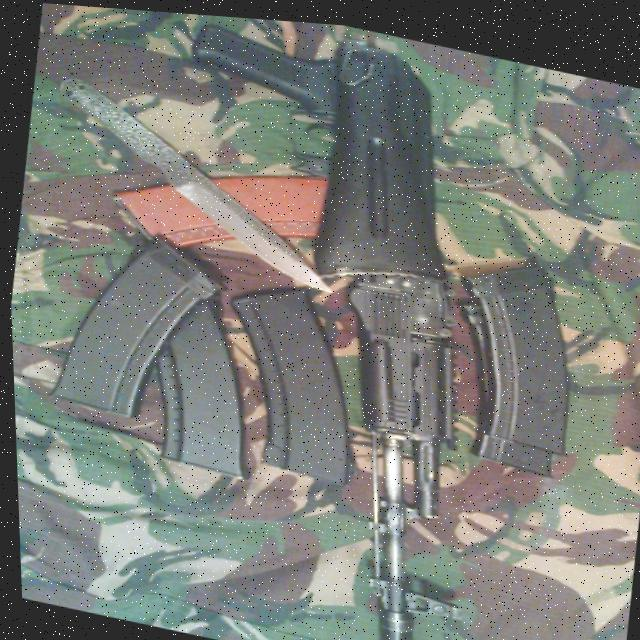firearm: (111, 9, 535, 640)
knife: (33, 69, 354, 291)
